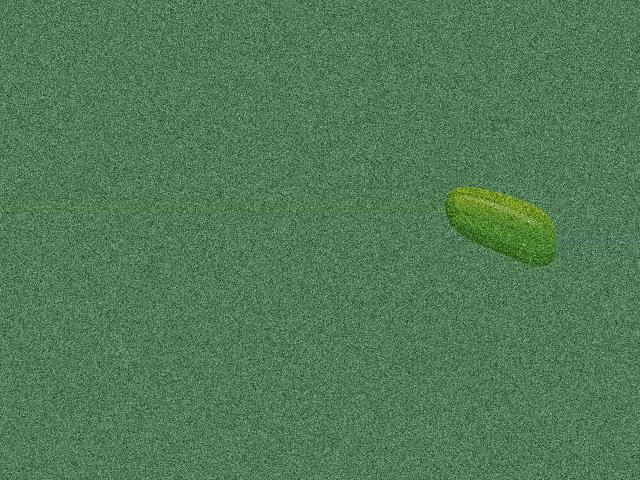cucumber: (445, 187, 557, 267)
